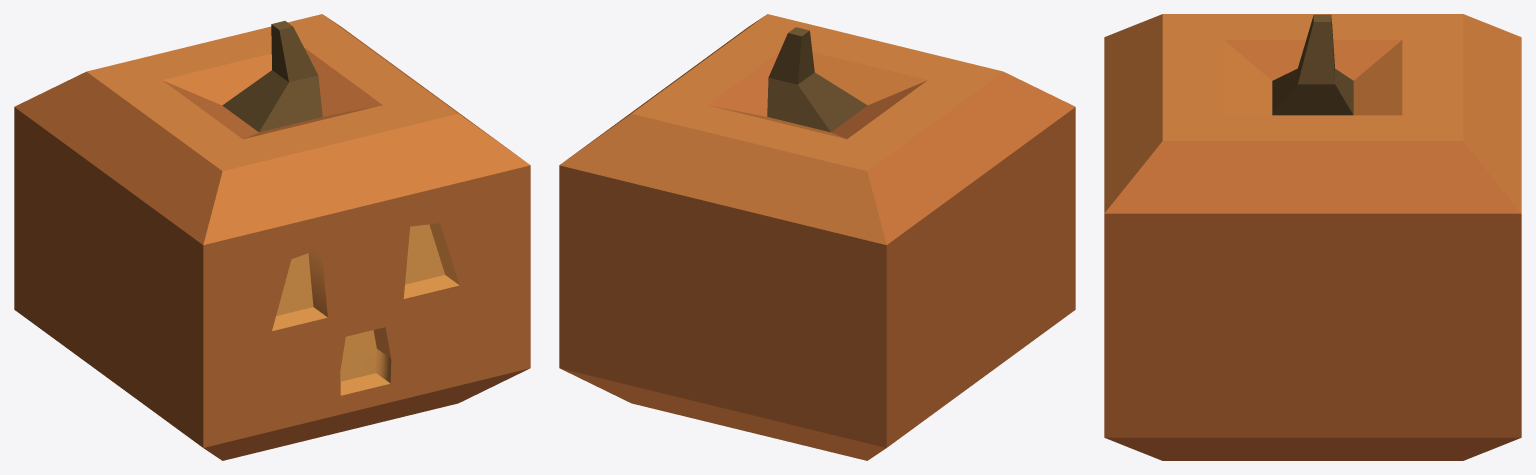
File: SC_Halloween_Pumpkin_02.fbx
The picture shows the model from 3 angles, left to right: view 1: azimuth 30°, elevation 25°; view 2: azimuth 150°, elevation 25°; view 3: azimuth 270°, elevation 25°; orthographic projection. The views are drawn at different scales.
Parts seen in each view (by area): view 1: SC_Halloween_Pumpkin_02; view 2: SC_Halloween_Pumpkin_02; view 3: SC_Halloween_Pumpkin_02.
Boxes of the visible parts, left/top/right/bottom form: SC_Halloween_Pumpkin_02: left=14, top=14, right=530, bottom=460; SC_Halloween_Pumpkin_02: left=559, top=14, right=1075, bottom=460; SC_Halloween_Pumpkin_02: left=1104, top=14, right=1521, bottom=460.
Bounding box in the file's own units: 0.8533 × 0.8722 × 0.8533.
